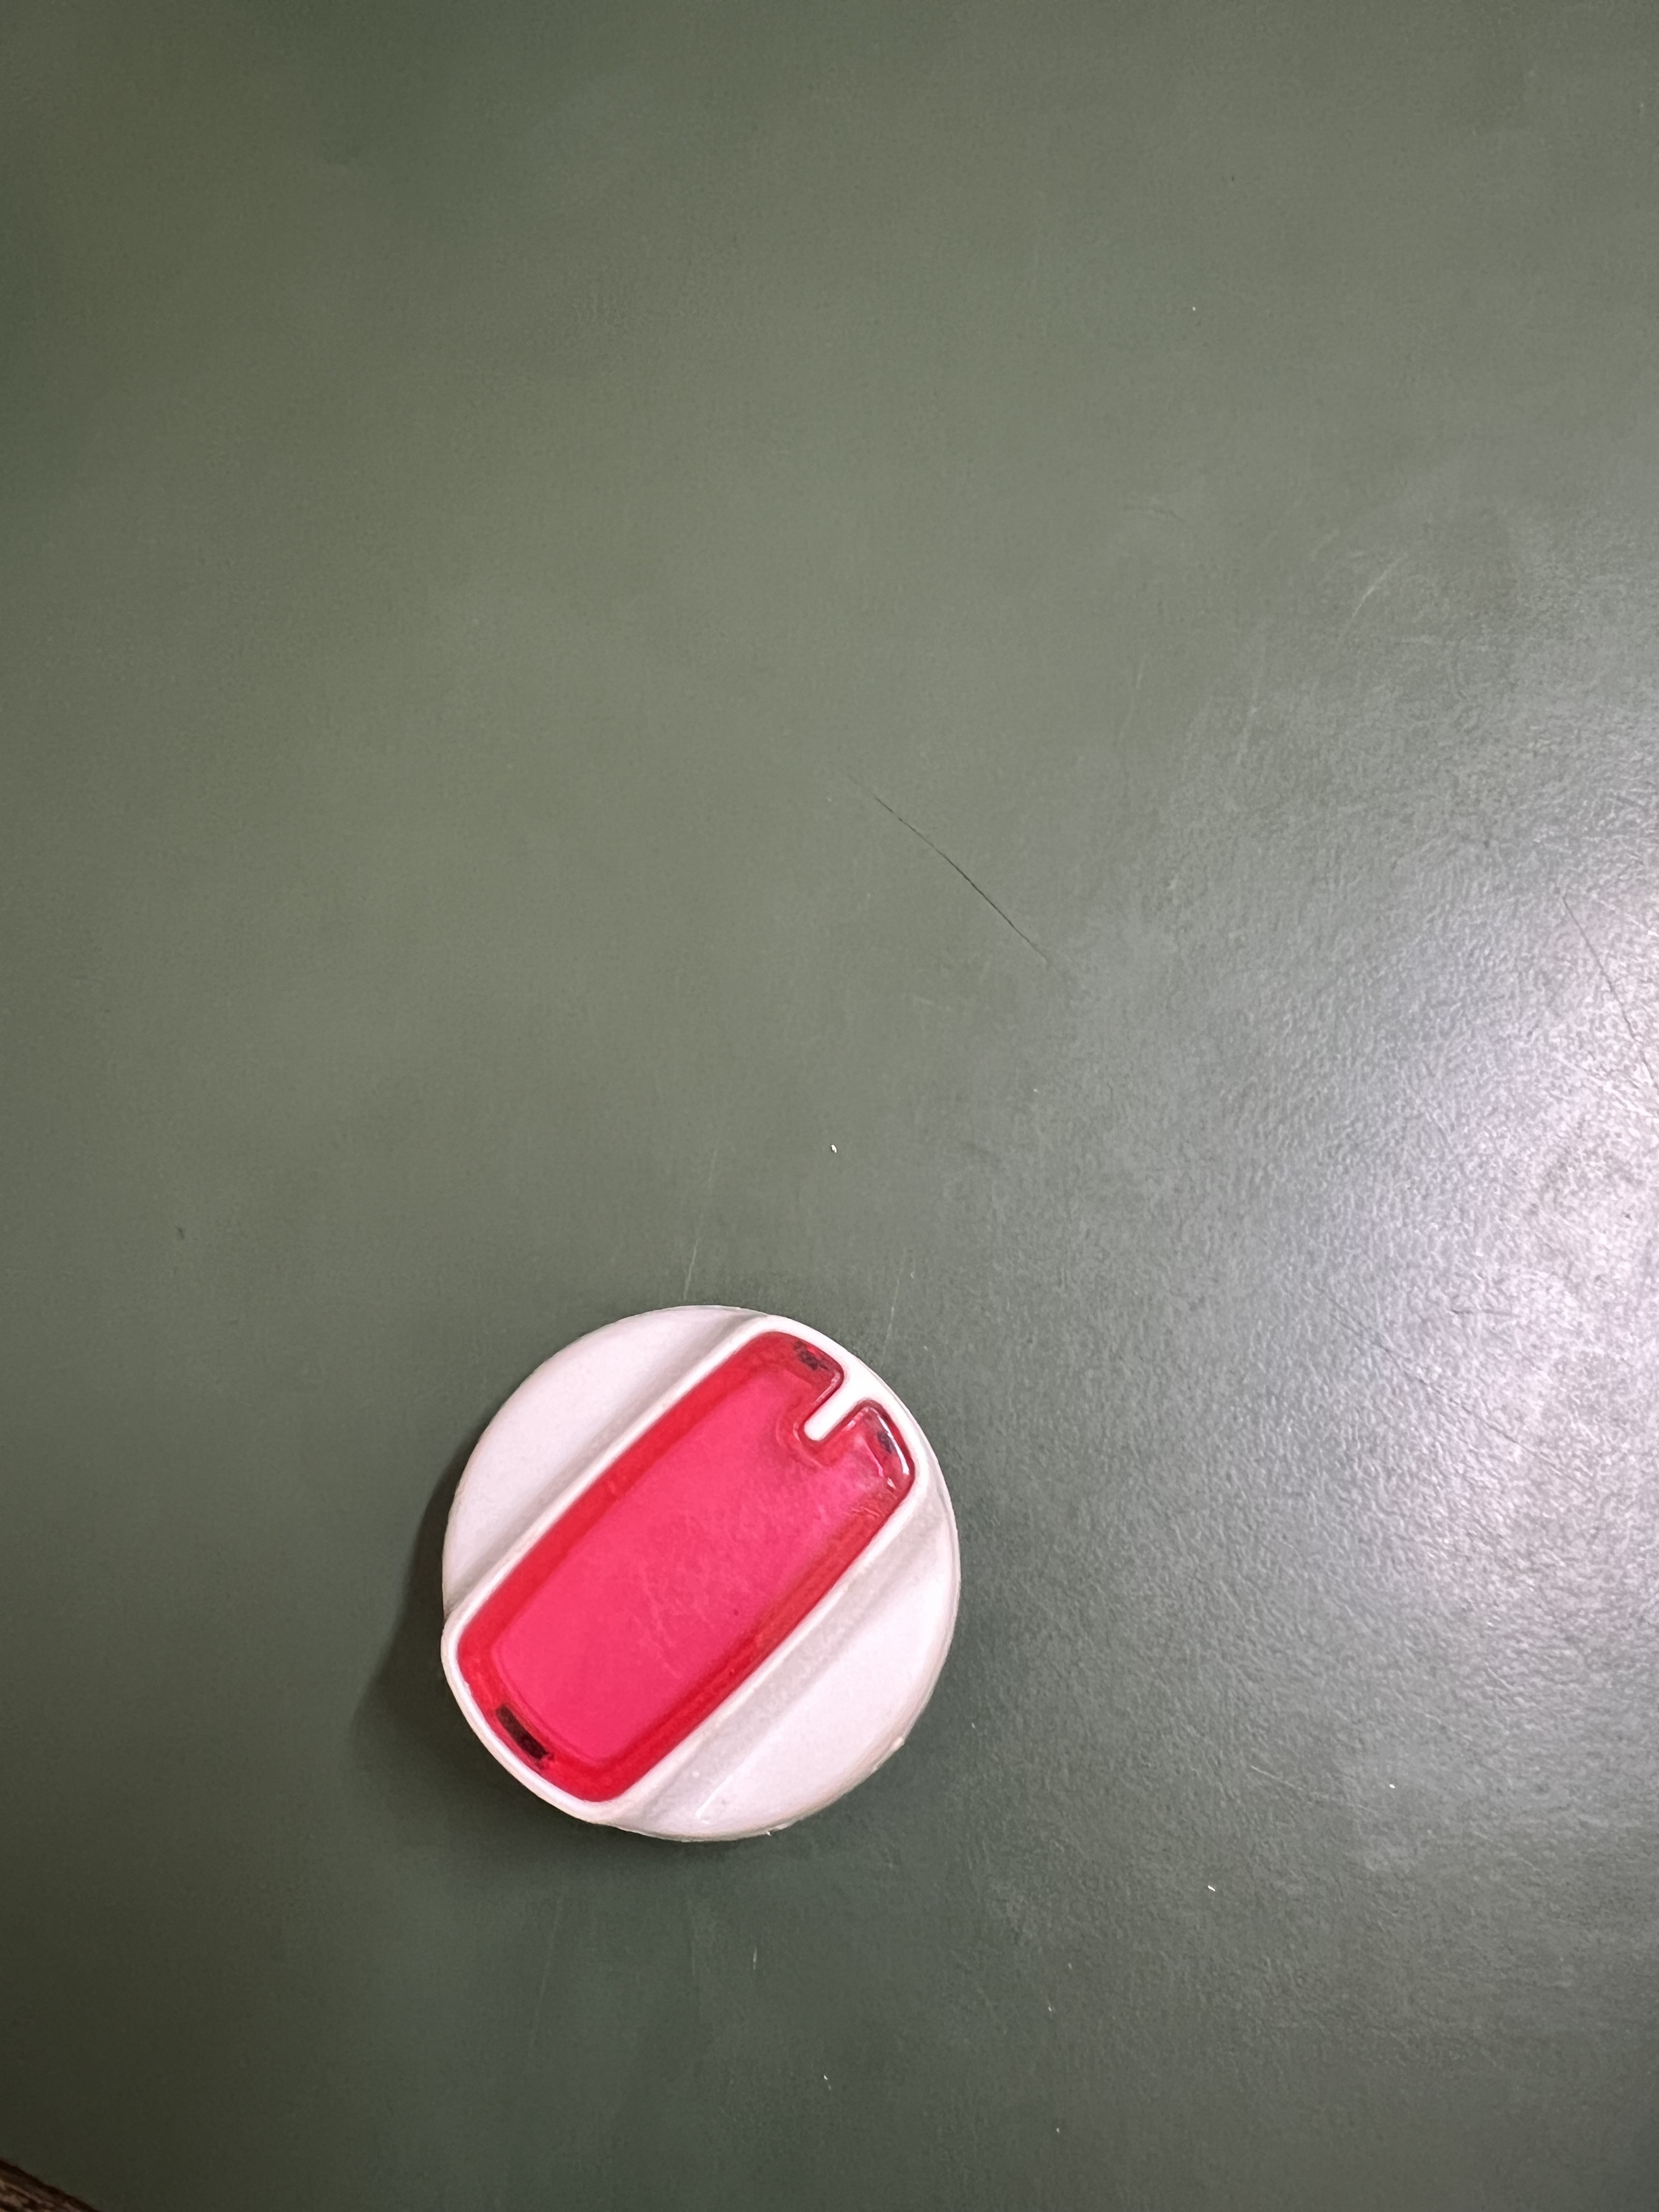regulator: (437, 1317, 979, 1872)
